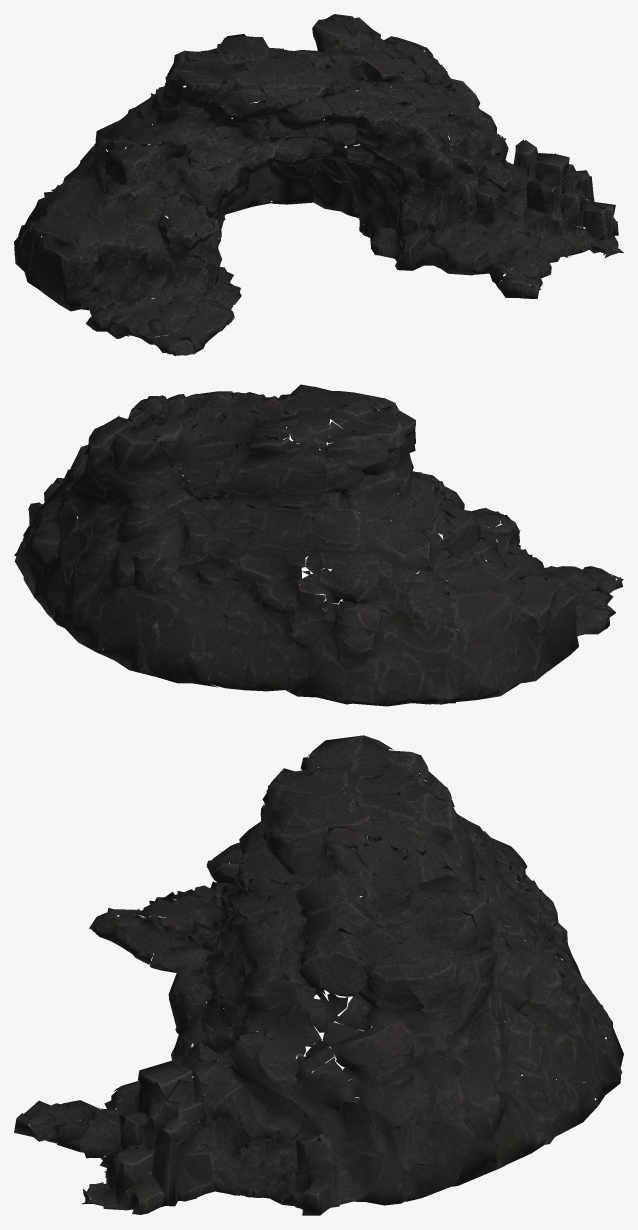
The model's file is Basalt_Arch_town.glb.
The picture shows the model from 3 angles, top to bottom: view 1: azimuth 30°, elevation 25°; view 2: azimuth 150°, elevation 25°; view 3: azimuth 270°, elevation 25°; orthographic projection. The views are drawn at different scales.
Parts seen in each view (by area): view 1: Basalt_Arch; view 2: Basalt_Arch; view 3: Basalt_Arch.
Part boxes in pixels (x1=…): Basalt_Arch: x1=14, y1=14, x2=623, y2=355; Basalt_Arch: x1=14, y1=384, x2=623, y2=706; Basalt_Arch: x1=14, y1=735, x2=623, y2=1215.
Size of the model in its own units: 1.89 by 0.7019 by 1.52.
Materials: 1 (1 with a texture image).
